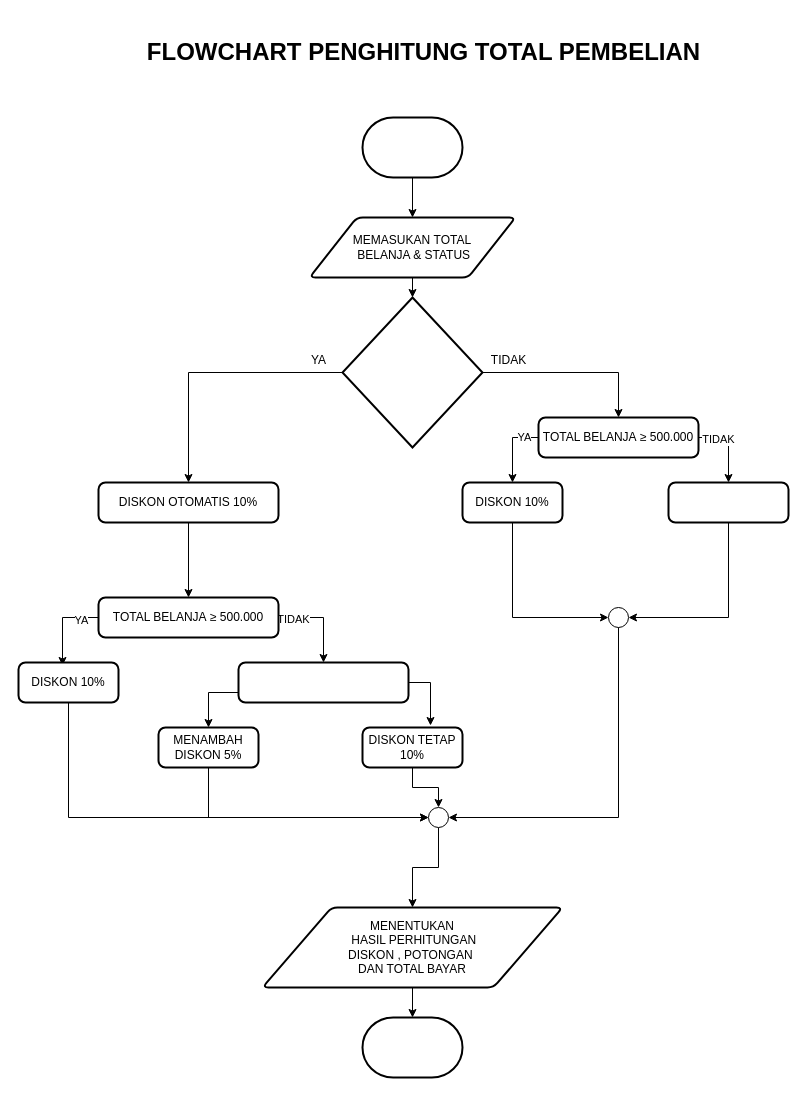
The diagram is 806 pixels wide and 1095 high, and some of its shapes have lost their labels. Each missing label, with the centre of its shape:
"APAKAH MEMBER? YA/TIDAK" belongs at pixel 412 372.
"END" belongs at pixel 412 1047.
"START" belongs at pixel 412 147.
"TIDAK ADA DISKON" belongs at pixel 728 502.
"TOTAL BELANJA ≥ 300.000" belongs at pixel 323 682.
